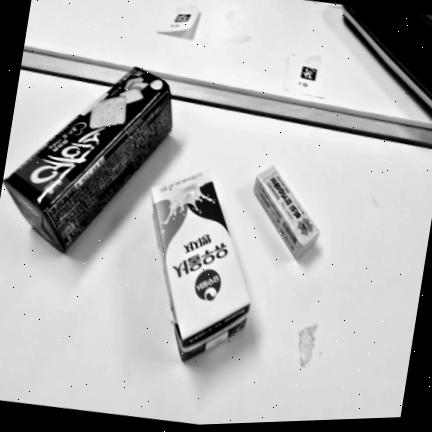cracker_ace: (3, 67, 172, 252)
gum_yellow: (254, 167, 319, 259)
milk_blue: (152, 171, 250, 361)
